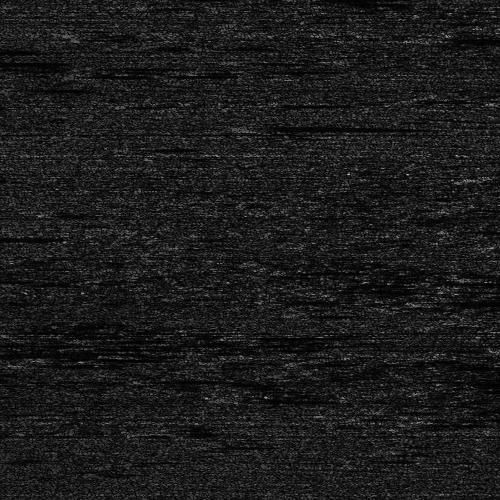object: (353, 295, 458, 306), (364, 32, 469, 41), (439, 174, 500, 183), (206, 397, 259, 402), (239, 124, 270, 129)
shadow: (406, 295, 500, 306), (255, 124, 433, 129), (417, 32, 500, 41), (233, 397, 316, 402), (0, 349, 114, 352), (471, 174, 500, 183), (0, 235, 28, 240), (0, 59, 27, 64)
